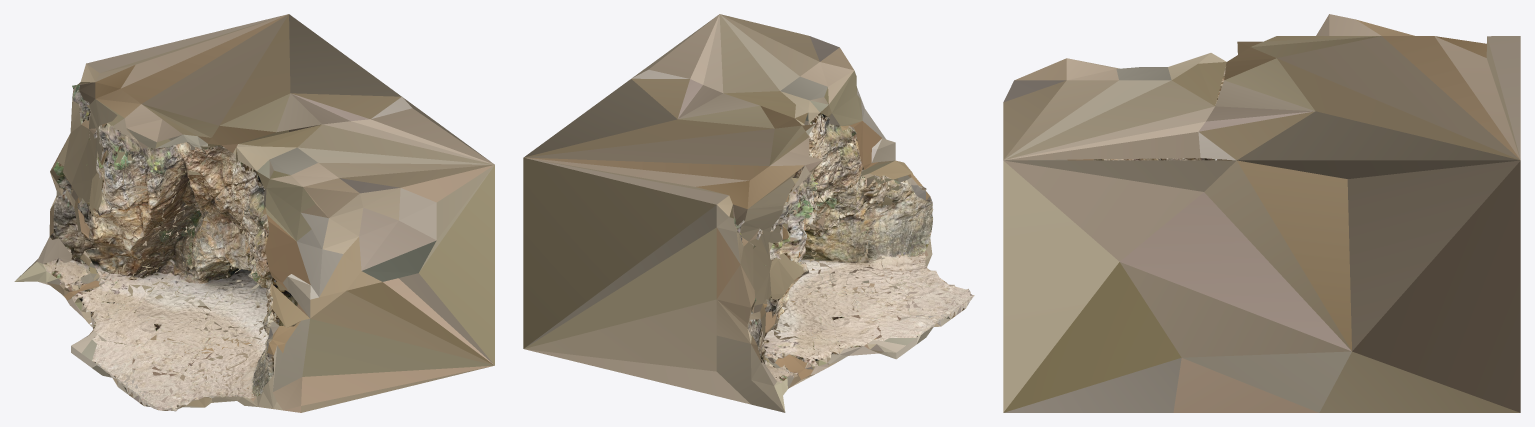
File: cave_in_lancieux.glb
3 views of the same model, side by side, from view 1: azimuth 30°, elevation 25°; view 2: azimuth 150°, elevation 25°; view 3: azimuth 270°, elevation 25° (orthographic). The views are drawn at different scales.
Visible parts, largest first — view 1: model; view 2: model; view 3: model.
Boxes of the visible parts, x1,y1,x2,y2 form: model: [14, 14, 494, 412]; model: [523, 14, 974, 412]; model: [1003, 14, 1520, 412].
Bounding box in the file's own units: 7.96 × 5.02 × 9.32.
1 material, 1 textured.
